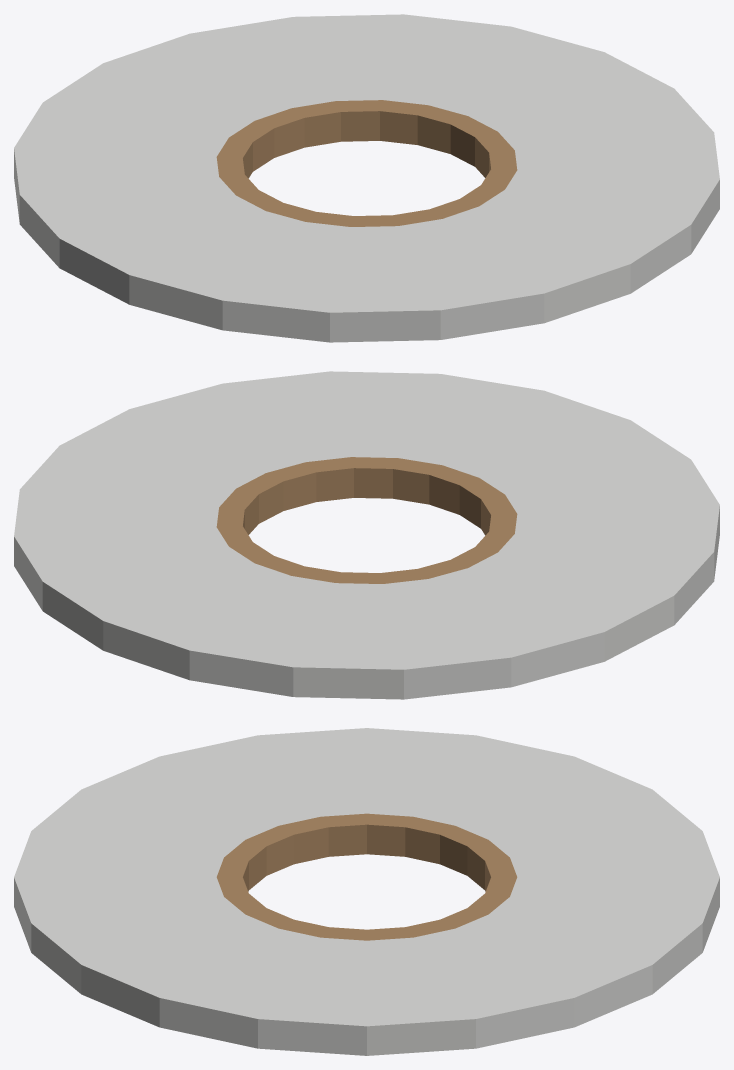
The model's file is seal-strip-eptfe.glb.
The picture shows the model from 3 angles, top to bottom: view 1: azimuth 30°, elevation 25°; view 2: azimuth 150°, elevation 25°; view 3: azimuth 270°, elevation 25°; orthographic projection.
Visible parts, largest first — view 1: body; view 2: body; view 3: body.
Part boxes in pixels (bbox=[...]): body: bbox=[14, 14, 719, 342]; body: bbox=[14, 371, 719, 699]; body: bbox=[14, 728, 719, 1055].
Size of what is drawn, in the model's own units: 0.216 by 0.01 by 0.216.
